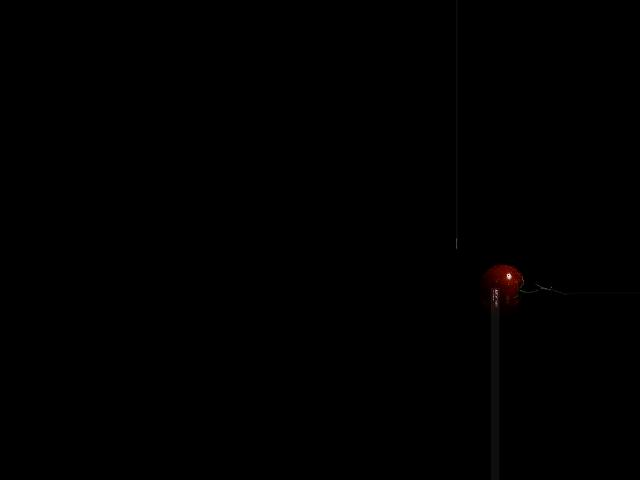tomato: (480, 265, 522, 314)
